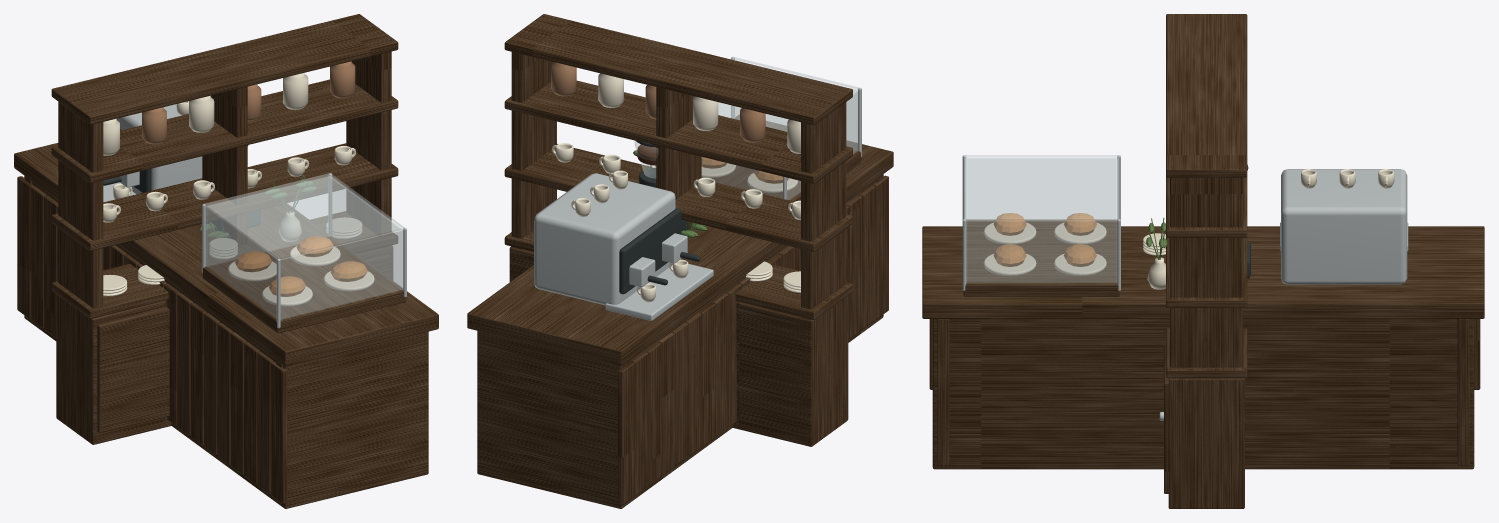
The model's file is cafe-furniture.glb.
3 views of the same model, side by side, from view 1: azimuth 30°, elevation 25°; view 2: azimuth 150°, elevation 25°; view 3: azimuth 270°, elevation 25° (orthographic). The views are drawn at different scales.
Parts seen in each view (by area): view 1: ASSET_SHELF__MAT_WOOD, ASSET_COUNTER__MAT_WOOD, ASSET_COUNTER__MAT_GLASS, ASSET_SHELF__MAT_CERAMIC, ASSET_COUNTER__MAT_CERAMIC, ASSET_COUNTER__MAT_STEEL, ASSET_COUNTER__MAT_PASTRY, ASSET_SHELF__MAT_TERRACOTTA, ASSET_COUNTER__MAT_IRON; view 2: ASSET_SHELF__MAT_WOOD, ASSET_COUNTER__MAT_WOOD, ASSET_COUNTER__MAT_STEEL, ASSET_SHELF__MAT_CERAMIC, ASSET_COUNTER__MAT_GLASS, ASSET_COUNTER__MAT_IRON, ASSET_COUNTER__MAT_CERAMIC, ASSET_SHELF__MAT_TERRACOTTA, ASSET_COUNTER__MAT_PASTRY; view 3: ASSET_COUNTER__MAT_WOOD, ASSET_SHELF__MAT_WOOD, ASSET_COUNTER__MAT_GLASS, ASSET_COUNTER__MAT_STEEL, ASSET_COUNTER__MAT_CERAMIC, ASSET_COUNTER__MAT_PASTRY.
Part boxes in pixels (x1,y1,x2,y2): ASSET_SHELF__MAT_WOOD: (51,14,398,444); ASSET_COUNTER__MAT_WOOD: (14,143,438,508); ASSET_COUNTER__MAT_GLASS: (204,173,404,319); ASSET_SHELF__MAT_CERAMIC: (103,73,361,296); ASSET_COUNTER__MAT_CERAMIC: (113,101,374,306); ASSET_COUNTER__MAT_STEEL: (57,104,406,328); ASSET_COUNTER__MAT_PASTRY: (235,236,367,296); ASSET_SHELF__MAT_TERRACOTTA: (142,61,355,144); ASSET_COUNTER__MAT_IRON: (103,129,260,231); ASSET_SHELF__MAT_WOOD: (504,14,852,446); ASSET_COUNTER__MAT_WOOD: (467,115,893,508); ASSET_COUNTER__MAT_STEEL: (534,57,861,320); ASSET_SHELF__MAT_CERAMIC: (552,73,800,292); ASSET_COUNTER__MAT_GLASS: (635,57,859,200); ASSET_COUNTER__MAT_IRON: (619,141,700,294); ASSET_COUNTER__MAT_CERAMIC: (571,163,797,302); ASSET_SHELF__MAT_TERRACOTTA: (551,62,765,142); ASSET_COUNTER__MAT_PASTRY: (701,157,788,183); ASSET_COUNTER__MAT_WOOD: (922,220,1484,469); ASSET_SHELF__MAT_WOOD: (1164,14,1247,508); ASSET_COUNTER__MAT_GLASS: (964,155,1118,283); ASSET_COUNTER__MAT_STEEL: (962,155,1408,291); ASSET_COUNTER__MAT_CERAMIC: (983,169,1394,289); ASSET_COUNTER__MAT_PASTRY: (993,213,1096,266).
Size of the model in its own units: 2.1 by 2.15 by 3.2.
Materials: 11 (1 with a texture image).
